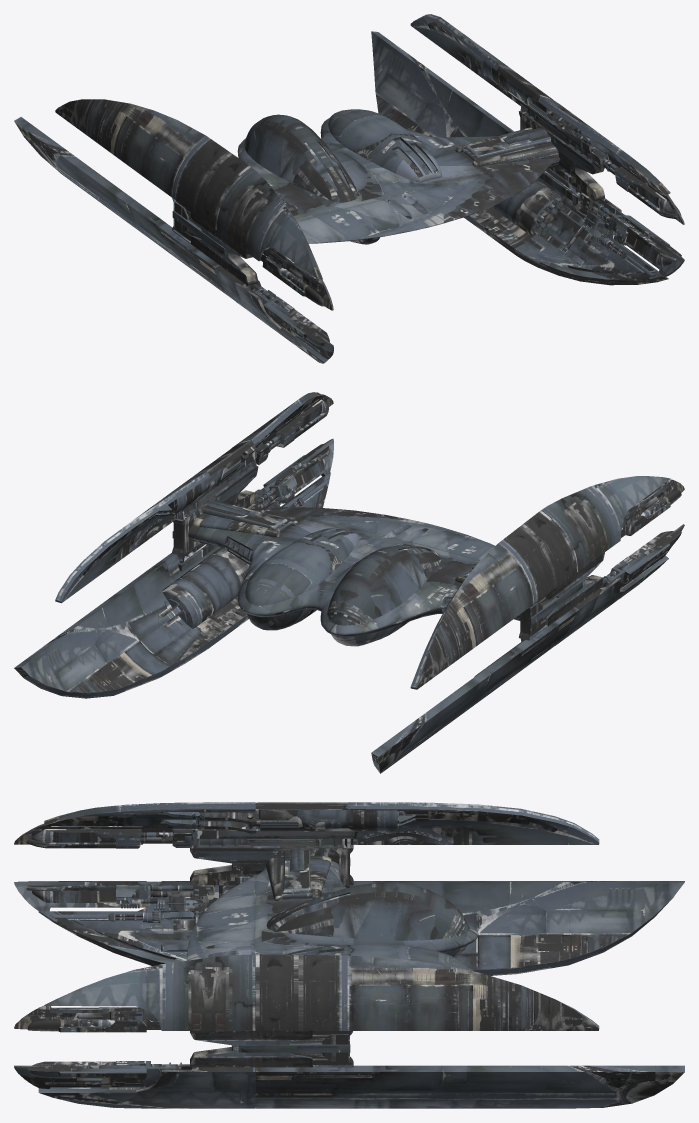
File: hyena.glb
The picture shows the model from 3 angles, top to bottom: view 1: azimuth 30°, elevation 25°; view 2: azimuth 150°, elevation 25°; view 3: azimuth 270°, elevation 25°; orthographic projection. The views are drawn at different scales.
Size of the model in its own units: 8.2 by 3.26 by 12.06.
2 materials, 2 textured.
